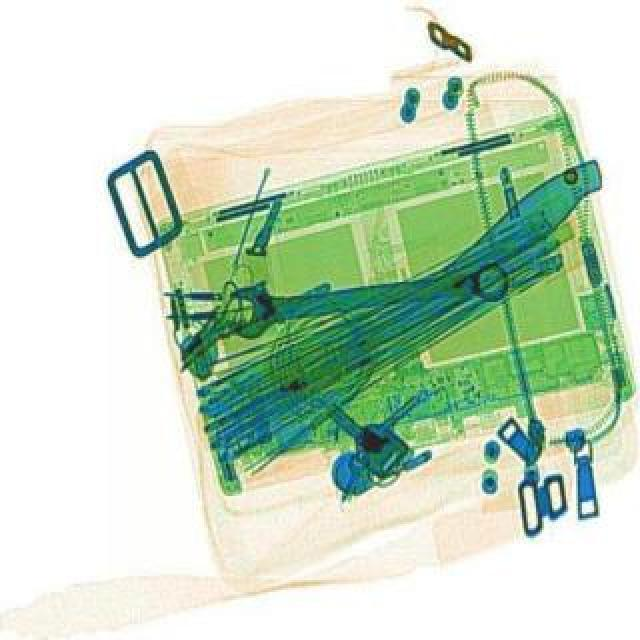knife: (396, 156, 620, 330)
scissors: (226, 258, 516, 348)
